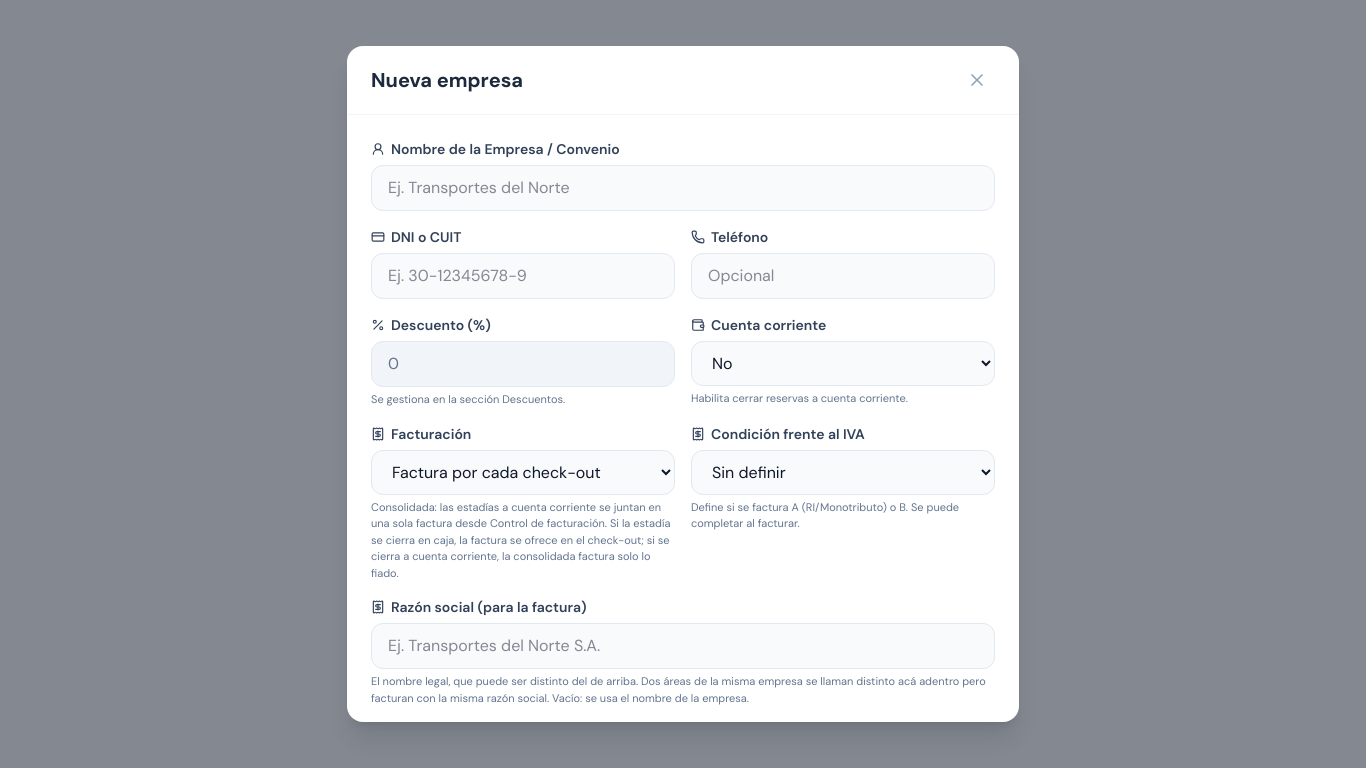
AssociatedClientModal: cuenta corriente y modo de facturación › volver a No después del Sí deshace el cambio automático y la nota se va
In the field labelled "DNI o CUIT": coordinates (523, 276) x1=371 y1=253 x2=675 y2=299, type "30-12345678-1"
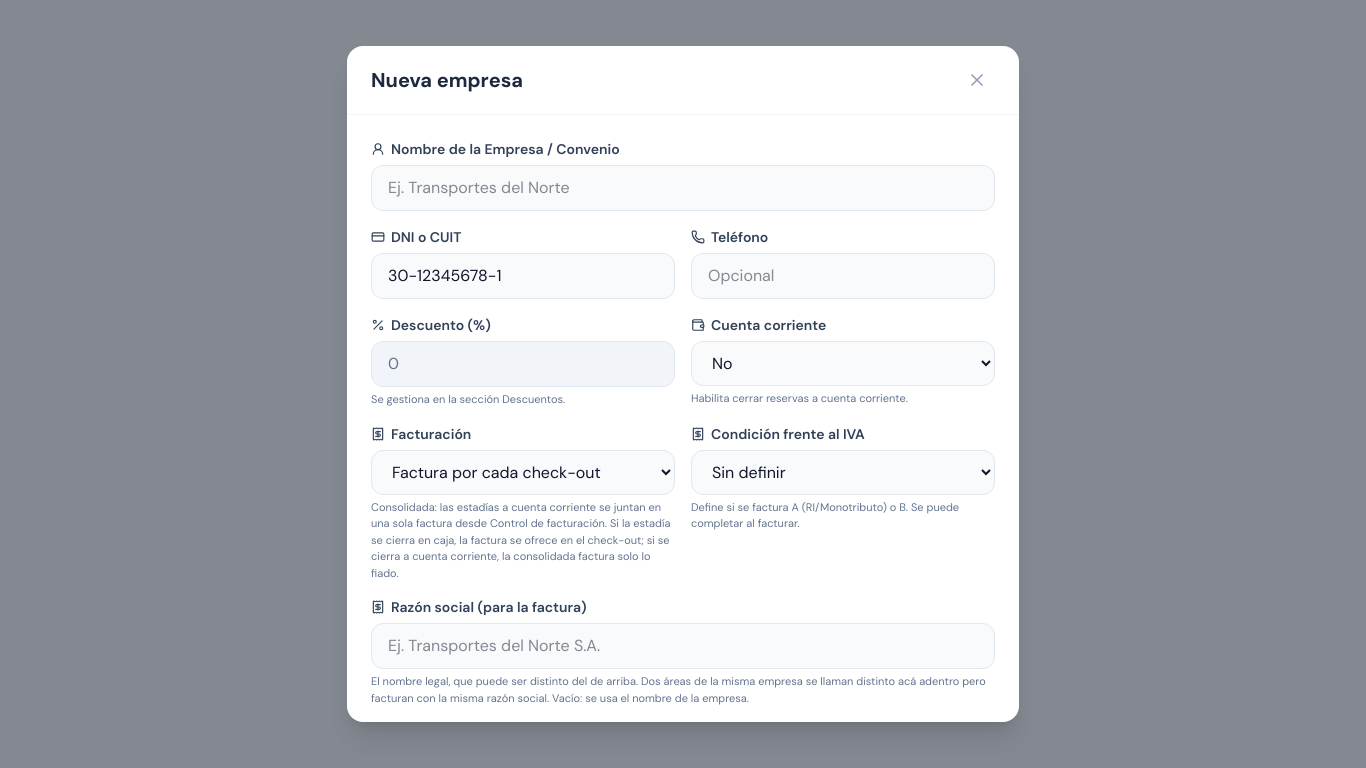
Select "Sí — habilitada a fiar" in the dropdown labelled "Cuenta corriente": coordinates (843, 364) x1=691 y1=341 x2=995 y2=386
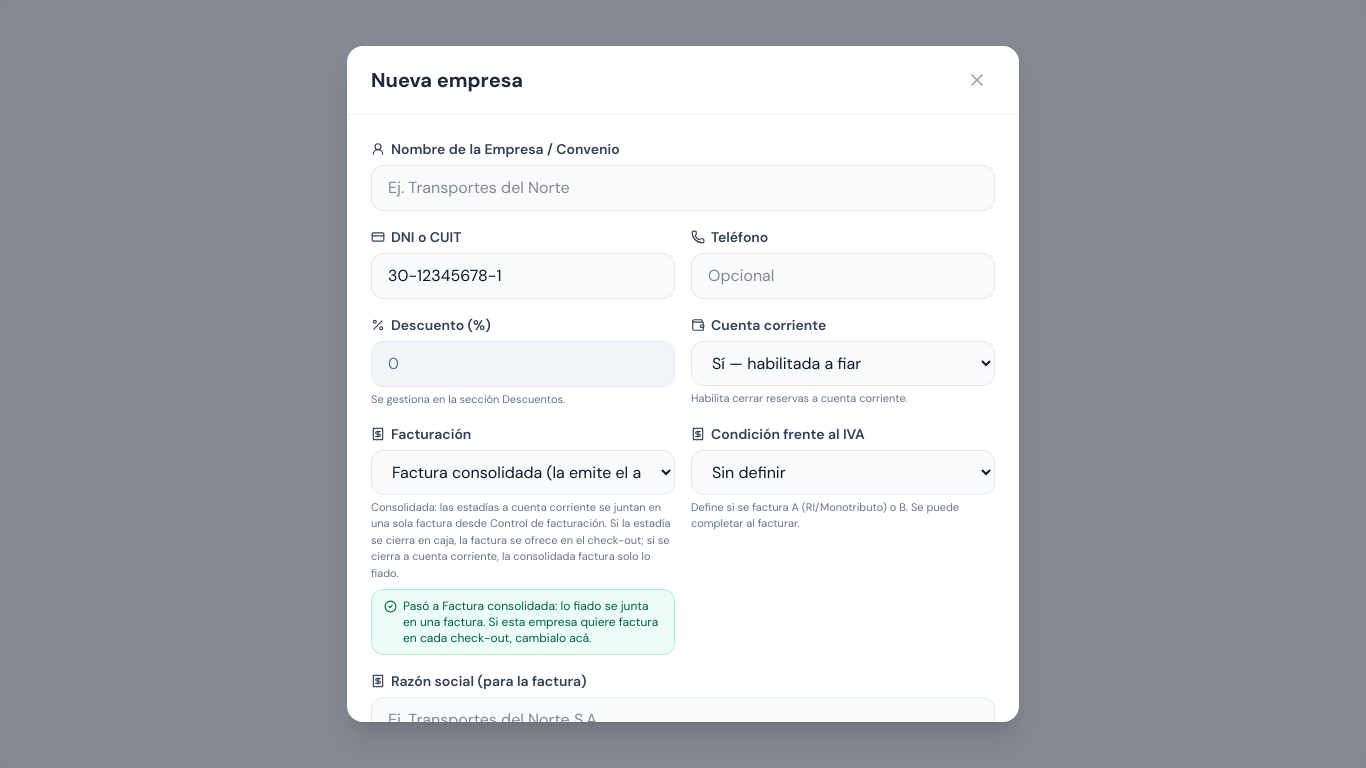
Now the text "Pasó a Factura consolidada" is shown, box x1=403 y1=598 x2=658 y2=646
Select "No" in the dropdown labelled "Cuenta corriente": coordinates (843, 364) x1=691 y1=341 x2=995 y2=386
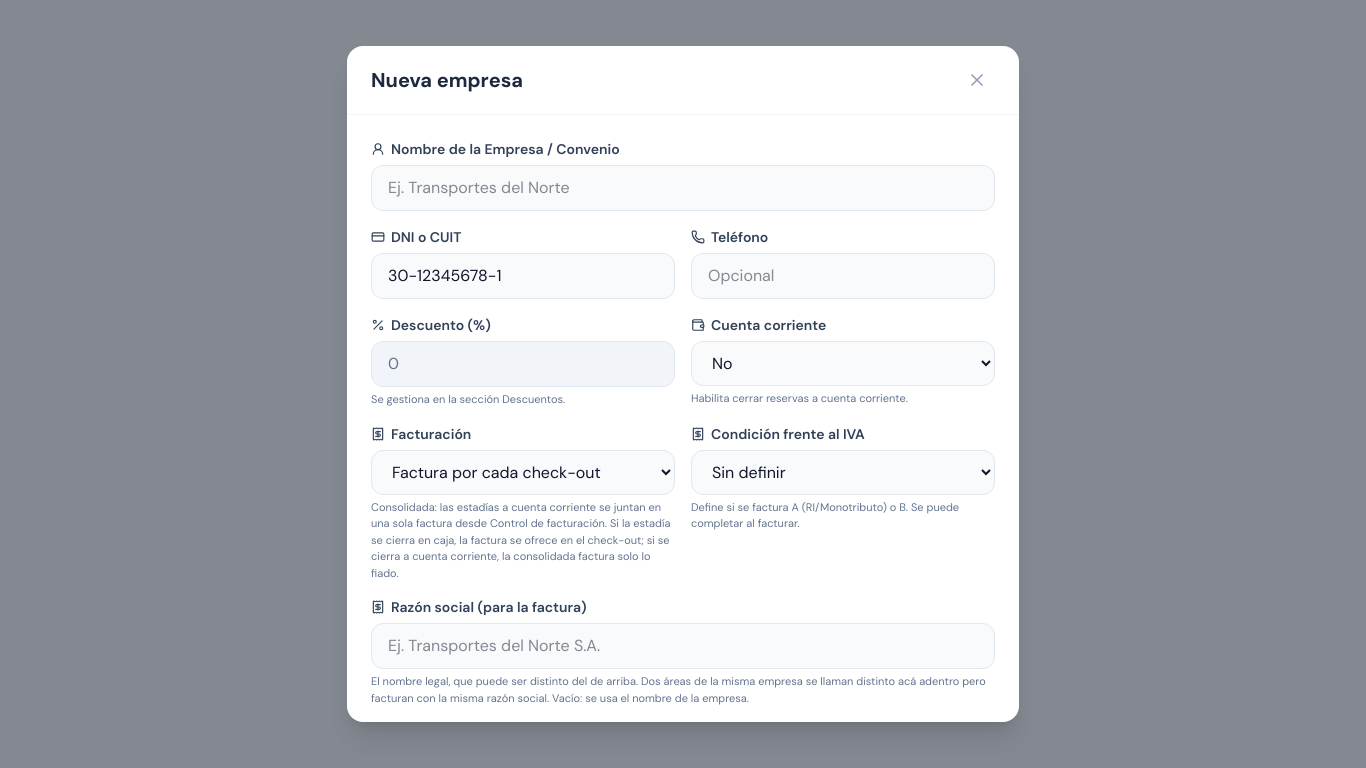
Now the dropdown labelled "Facturación" shows "Factura por cada check-out", box x1=371 y1=450 x2=675 y2=495
Now the text "Pasó a Factura consolidada" is gone
